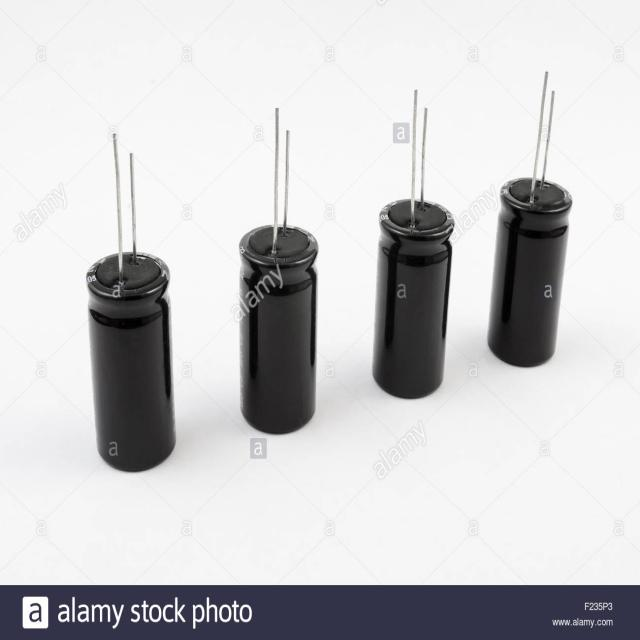capacitor: (86, 132, 178, 472), (488, 70, 574, 369), (240, 106, 318, 433), (374, 88, 454, 399)
